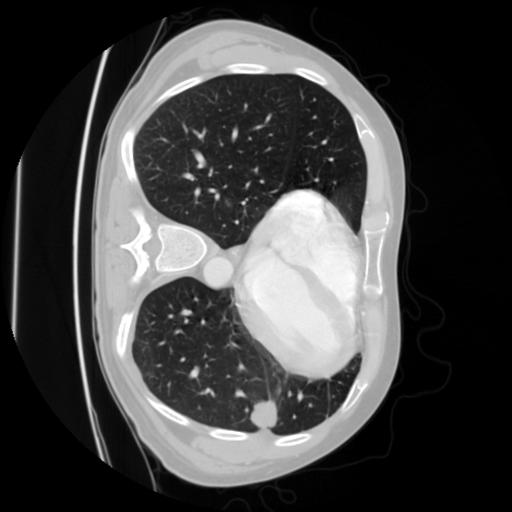nodule: (249, 395, 286, 432)
